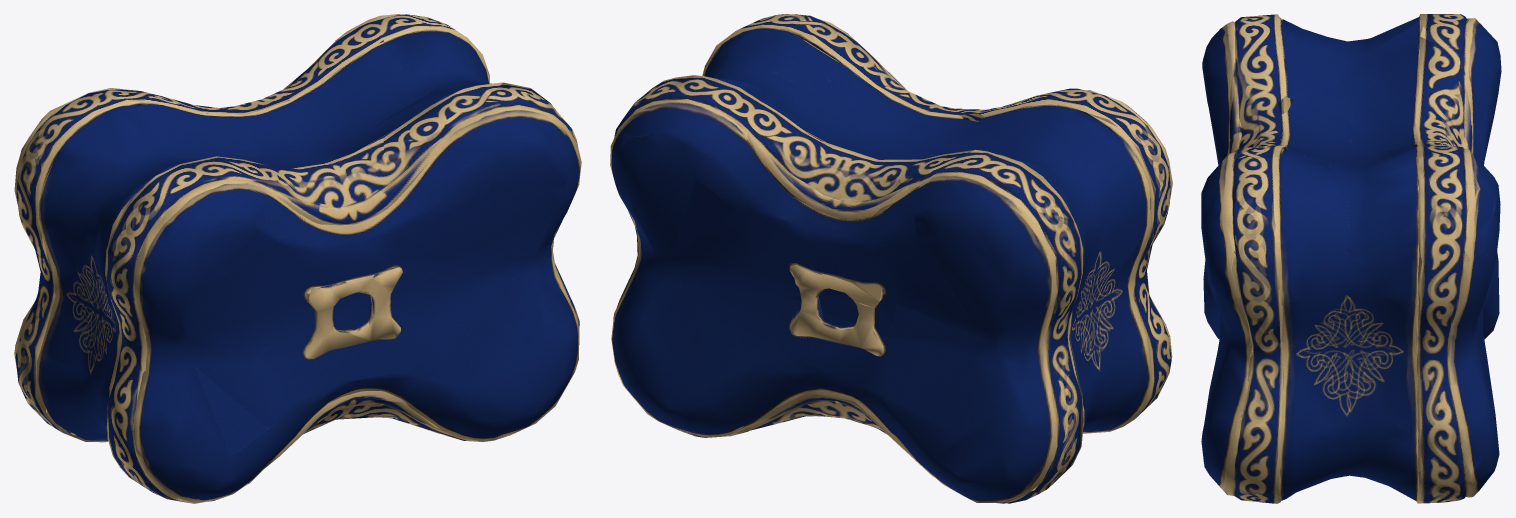
File: Saka_3118_mobile_2K_1K.glb
The picture shows the model from 3 angles, left to right: view 1: azimuth 30°, elevation 25°; view 2: azimuth 150°, elevation 25°; view 3: azimuth 270°, elevation 25°; orthographic projection.
Visible parts, largest first — view 1: output_unwrapped; view 2: output_unwrapped; view 3: output_unwrapped.
Boxes of the visible parts, left/top/right/bottom form: output_unwrapped: left=14, top=14, right=581, bottom=503; output_unwrapped: left=610, top=14, right=1172, bottom=503; output_unwrapped: left=1201, top=14, right=1501, bottom=503.
Size of the model in its own units: 0.0828 by 0.06 by 0.048.
Materials: 1 (1 with a texture image).
